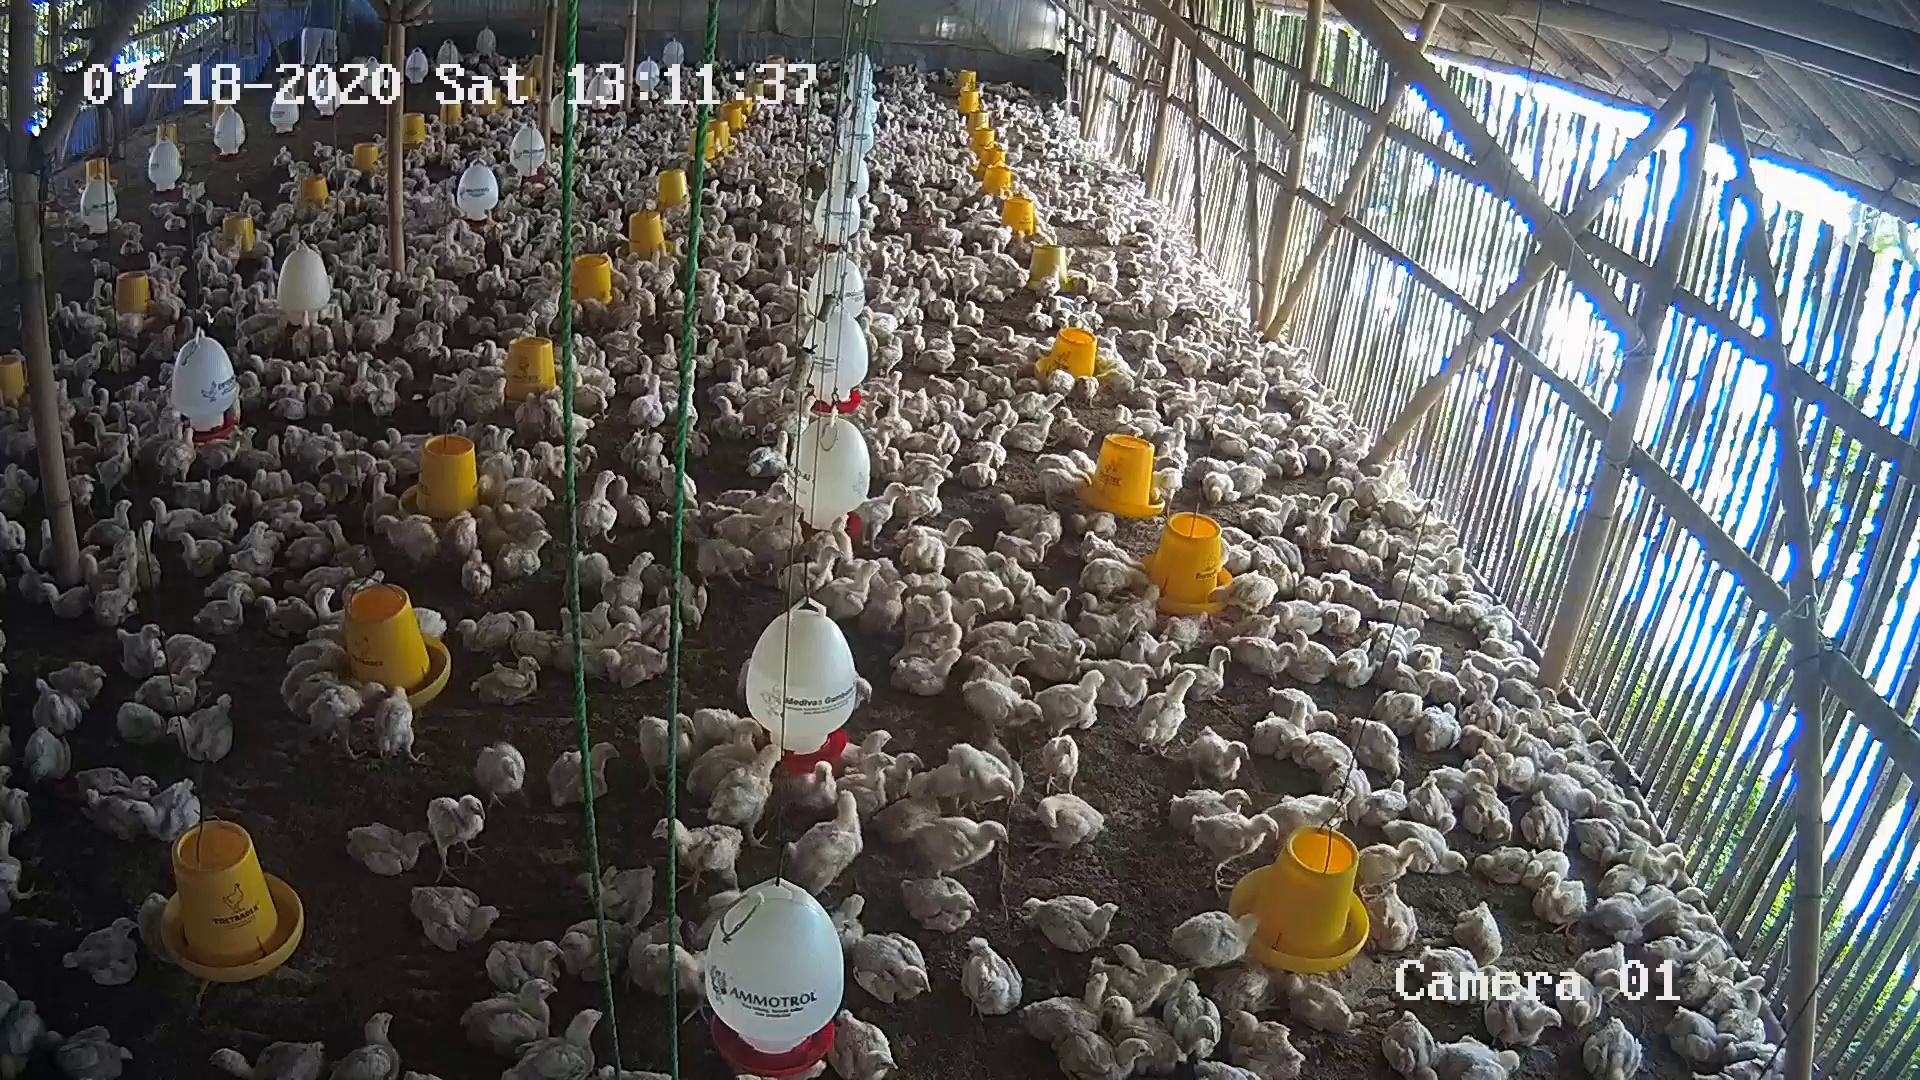chicken: (782, 789, 862, 910), (705, 741, 789, 851), (498, 1004, 607, 1080), (899, 814, 1013, 884), (458, 977, 560, 1054), (651, 818, 749, 898), (1191, 812, 1279, 901), (638, 940, 731, 1025), (1097, 996, 1187, 1080), (1013, 971, 1110, 1044), (684, 717, 765, 803), (1168, 909, 1263, 981), (309, 684, 390, 764), (851, 928, 932, 1007), (1104, 943, 1189, 1017), (1021, 891, 1120, 955), (1031, 667, 1106, 750), (960, 676, 1046, 749), (713, 501, 793, 579), (1222, 1006, 1305, 1080), (1131, 670, 1199, 760), (409, 886, 500, 952), (1015, 793, 1106, 858), (545, 740, 625, 814), (76, 774, 160, 845), (290, 671, 368, 746), (822, 1006, 899, 1080), (960, 935, 1026, 1022), (59, 918, 142, 986), (426, 794, 488, 885), (823, 753, 895, 829), (41, 1022, 136, 1080), (901, 874, 988, 938), (1048, 1030, 1156, 1080), (556, 916, 637, 984), (1379, 818, 1469, 877), (331, 1007, 404, 1080), (129, 775, 203, 847), (164, 692, 237, 764), (742, 501, 808, 580), (637, 713, 698, 798), (1280, 972, 1360, 1036), (1356, 835, 1429, 903), (343, 822, 430, 880), (942, 744, 1017, 810), (872, 767, 938, 843), (571, 866, 658, 923), (281, 642, 344, 720), (1358, 880, 1423, 955), (1586, 891, 1681, 942), (1166, 789, 1253, 843), (208, 1040, 327, 1080), (775, 543, 844, 611), (1275, 804, 1348, 868), (484, 938, 564, 994), (1379, 1009, 1443, 1080), (848, 483, 911, 554), (844, 745, 924, 800), (1164, 978, 1222, 1055), (1665, 1007, 1738, 1068), (688, 705, 771, 758), (469, 741, 531, 811), (131, 665, 208, 720), (1265, 683, 1338, 741), (1205, 567, 1279, 625), (814, 559, 884, 620), (1581, 1015, 1644, 1080), (1184, 725, 1249, 789), (597, 638, 671, 694), (884, 471, 948, 534), (510, 607, 575, 669), (1247, 699, 1313, 760), (468, 653, 542, 707), (887, 646, 964, 698), (375, 687, 423, 767), (1532, 872, 1592, 938), (1172, 644, 1232, 709), (691, 534, 757, 593), (1436, 1034, 1520, 1080), (965, 655, 1035, 711), (500, 446, 555, 516), (1079, 659, 1156, 708), (328, 435, 382, 505), (1208, 965, 1284, 1014), (1079, 529, 1149, 582), (1034, 452, 1093, 514), (376, 513, 439, 571), (1276, 789, 1356, 835), (1451, 899, 1505, 967), (1076, 558, 1156, 603), (990, 491, 1065, 538), (574, 469, 618, 549), (1233, 633, 1302, 684), (601, 551, 657, 612), (363, 469, 405, 549), (28, 680, 83, 740), (1348, 719, 1400, 781), (967, 618, 1039, 663), (454, 611, 520, 659), (1286, 732, 1360, 775), (1321, 766, 1375, 825), (541, 397, 595, 456), (1571, 815, 1631, 868), (252, 593, 320, 640), (314, 585, 382, 632), (1352, 459, 1400, 524), (1598, 843, 1652, 901), (1520, 791, 1573, 851), (1407, 774, 1460, 833), (949, 570, 1015, 617), (326, 517, 377, 578), (785, 760, 840, 815), (113, 698, 167, 754), (1460, 785, 1513, 843), (1286, 628, 1338, 686), (82, 498, 135, 556), (899, 524, 948, 585), (228, 520, 277, 582), (498, 530, 553, 585), (1367, 690, 1428, 738), (1423, 767, 1490, 811), (907, 517, 975, 560), (193, 582, 247, 636), (95, 433, 135, 506), (285, 520, 345, 567), (194, 429, 247, 483), (1127, 629, 1183, 680), (149, 495, 206, 545), (1538, 770, 1596, 819), (1240, 497, 1298, 546), (824, 891, 872, 951), (1470, 845, 1536, 887), (855, 576, 907, 629), (612, 603, 678, 645), (25, 727, 73, 785), (1023, 638, 1087, 682), (965, 640, 1033, 680), (626, 373, 667, 440), (353, 295, 404, 349), (116, 624, 165, 679), (475, 427, 516, 493), (655, 452, 702, 510), (202, 568, 272, 607), (401, 318, 452, 369), (742, 430, 793, 483), (36, 580, 100, 621), (1335, 634, 1383, 688), (1379, 647, 1428, 702), (1302, 492, 1338, 563), (556, 600, 613, 646), (531, 440, 599, 479), (1361, 778, 1408, 832), (1042, 735, 1083, 796), (837, 729, 895, 773), (1415, 700, 1464, 752), (928, 593, 982, 640), (173, 531, 227, 578), (1309, 597, 1364, 644), (83, 410, 129, 464), (440, 508, 485, 563), (992, 529, 1054, 568), (1270, 597, 1323, 644), (245, 489, 305, 530), (1631, 851, 1687, 894), (290, 564, 360, 599), (955, 444, 1004, 493), (497, 501, 549, 547), (1327, 539, 1385, 580), (1374, 498, 1443, 533), (160, 426, 196, 489), (47, 659, 108, 698), (280, 468, 328, 516), (162, 634, 216, 676), (568, 371, 611, 425), (615, 476, 655, 531), (372, 440, 427, 481), (462, 375, 508, 423), (135, 520, 165, 593), (1023, 583, 1073, 626), (1146, 467, 1184, 524), (527, 284, 564, 342), (965, 422, 1009, 471), (1006, 411, 1055, 455), (92, 572, 135, 622), (286, 641, 345, 676), (1523, 849, 1575, 890), (895, 421, 952, 458), (156, 421, 187, 487), (384, 426, 436, 465), (16, 553, 58, 601), (915, 328, 957, 377), (779, 394, 819, 446), (1495, 752, 1538, 799), (191, 502, 239, 545), (512, 390, 549, 444), (708, 396, 749, 444), (248, 313, 295, 353), (1055, 405, 1095, 454), (244, 431, 284, 480), (942, 409, 997, 443), (69, 298, 109, 344), (268, 498, 307, 546), (247, 353, 295, 392), (1162, 392, 1212, 429), (458, 549, 495, 597), (1069, 509, 1120, 545), (622, 353, 655, 407), (170, 477, 212, 520), (704, 365, 746, 407), (1007, 390, 1065, 421), (699, 270, 729, 328), (349, 349, 377, 413), (1212, 423, 1261, 459), (108, 305, 152, 344), (902, 451, 953, 484), (1462, 749, 1498, 796), (632, 272, 662, 327), (473, 262, 508, 311), (269, 381, 309, 423), (367, 372, 400, 422), (649, 255, 680, 306), (1, 462, 29, 520), (860, 419, 897, 463), (411, 607, 451, 646), (945, 310, 985, 349), (605, 293, 644, 334), (848, 400, 885, 442), (249, 463, 285, 506), (70, 340, 105, 384), (1418, 669, 1462, 703), (1299, 433, 1332, 479), (38, 517, 65, 574), (1274, 436, 1308, 480), (284, 425, 315, 471), (1224, 458, 1265, 493), (237, 371, 270, 414), (307, 306, 335, 357), (328, 305, 356, 356), (1295, 574, 1335, 609), (214, 473, 248, 514), (66, 473, 96, 520), (963, 355, 1006, 386), (1151, 417, 1187, 455), (874, 334, 905, 378), (1371, 622, 1422, 649), (1203, 469, 1238, 506), (220, 426, 258, 460), (452, 418, 487, 456), (433, 284, 462, 328), (1379, 600, 1428, 626), (45, 291, 74, 335), (651, 334, 678, 381), (1, 512, 26, 560), (396, 293, 433, 326), (1033, 262, 1063, 302), (901, 323, 926, 371), (69, 377, 98, 418), (1327, 498, 1360, 534), (1156, 429, 1189, 464), (272, 367, 302, 405), (1298, 396, 1331, 430), (84, 277, 108, 324), (869, 371, 905, 402), (212, 299, 249, 330), (291, 309, 313, 361), (194, 241, 218, 287), (1237, 378, 1270, 411), (480, 338, 514, 369), (694, 338, 720, 377), (1044, 369, 1076, 402), (858, 315, 881, 361), (307, 382, 335, 419), (1000, 324, 1038, 351), (851, 669, 873, 713), (196, 285, 231, 314), (248, 285, 282, 314), (1072, 375, 1101, 409), (51, 347, 78, 384), (611, 347, 644, 376), (1025, 301, 1054, 334), (203, 198, 235, 227), (87, 386, 109, 427), (1048, 293, 1088, 315), (1093, 324, 1124, 353), (310, 349, 342, 377), (222, 232, 245, 269), (255, 256, 282, 287), (1244, 353, 1269, 388), (604, 320, 642, 343), (849, 378, 887, 401), (88, 257, 117, 286), (248, 228, 276, 258), (607, 335, 644, 357), (1418, 644, 1445, 673), (208, 247, 233, 278), (154, 241, 189, 264), (178, 314, 199, 348), (146, 251, 167, 285), (69, 232, 99, 256), (189, 303, 214, 331), (961, 301, 986, 328), (169, 264, 189, 298), (111, 218, 142, 239), (484, 425, 501, 463), (120, 231, 145, 255), (62, 208, 88, 231), (148, 200, 182, 218), (175, 181, 210, 198), (161, 212, 187, 233)
